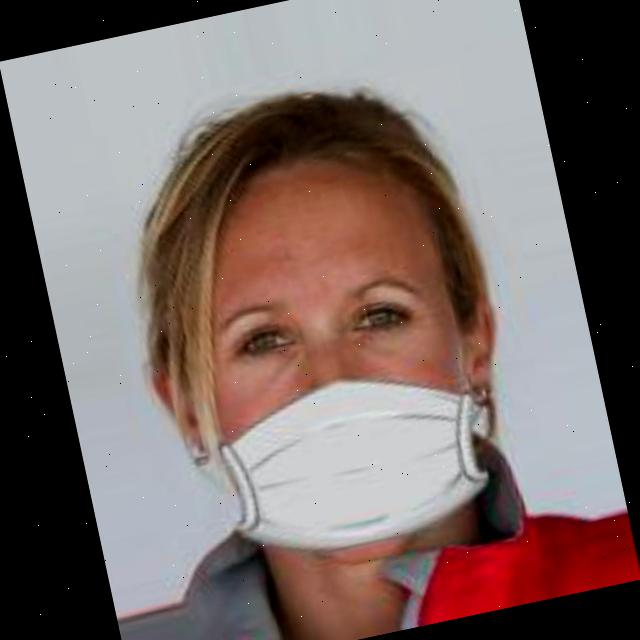suspicion: (142, 96, 498, 564)
